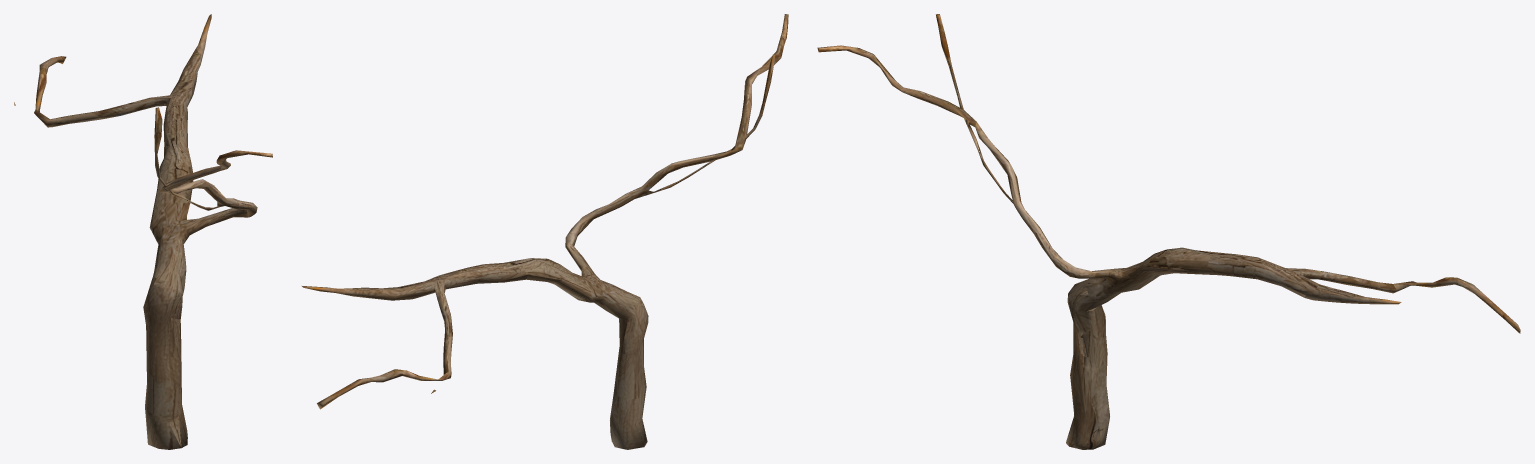
File: ramaSelva.obj
The picture shows the model from 3 angles, left to right: view 1: azimuth 30°, elevation 25°; view 2: azimuth 150°, elevation 25°; view 3: azimuth 270°, elevation 25°; orthographic projection. The views are drawn at different scales.
Visible parts, largest first — view 1: tripo_node_f72cc3dd-e492-4d91-84be-25165a57f7f3; view 2: tripo_node_f72cc3dd-e492-4d91-84be-25165a57f7f3; view 3: tripo_node_f72cc3dd-e492-4d91-84be-25165a57f7f3.
Boxes of the visible parts, box(x1,y1,x2,y2) form: tripo_node_f72cc3dd-e492-4d91-84be-25165a57f7f3: box(14, 14, 272, 449); tripo_node_f72cc3dd-e492-4d91-84be-25165a57f7f3: box(302, 14, 788, 449); tripo_node_f72cc3dd-e492-4d91-84be-25165a57f7f3: box(817, 14, 1520, 449).
Bounding box in the file's own units: 0.4636 × 0.606 × 0.9974.
Materials: 1 (1 with a texture image).
